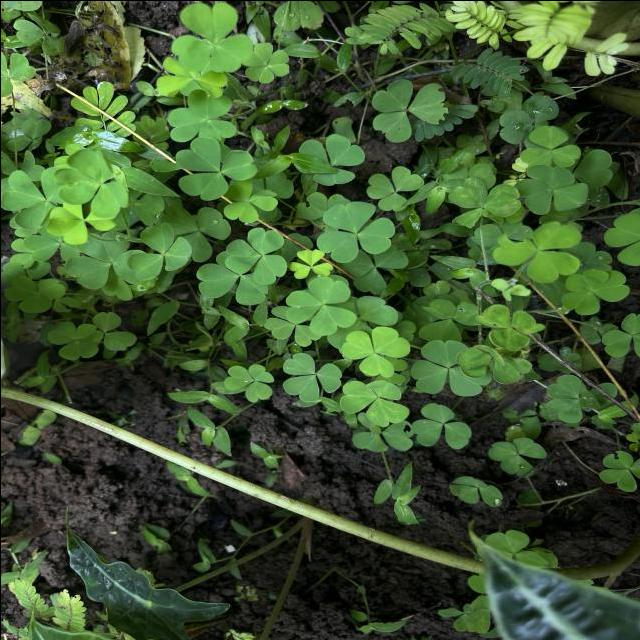Oxalis corniculata: (168, 1, 254, 74), (492, 220, 582, 282), (173, 134, 257, 200), (52, 148, 130, 219), (312, 199, 394, 264), (370, 78, 448, 143), (284, 274, 358, 337), (413, 337, 488, 399), (222, 224, 288, 286), (68, 235, 142, 290), (512, 163, 588, 215), (123, 222, 191, 280), (339, 324, 412, 378), (293, 132, 365, 186), (162, 89, 235, 140), (338, 378, 409, 428), (560, 267, 630, 316), (477, 304, 548, 351), (413, 402, 473, 452), (280, 352, 340, 402), (365, 165, 424, 213), (484, 436, 548, 478), (518, 124, 580, 167), (4, 275, 66, 313), (46, 319, 103, 360), (240, 40, 290, 86), (222, 362, 276, 403), (597, 449, 640, 495), (448, 474, 502, 509)
